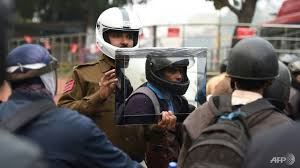helmet: (93, 3, 140, 58)
